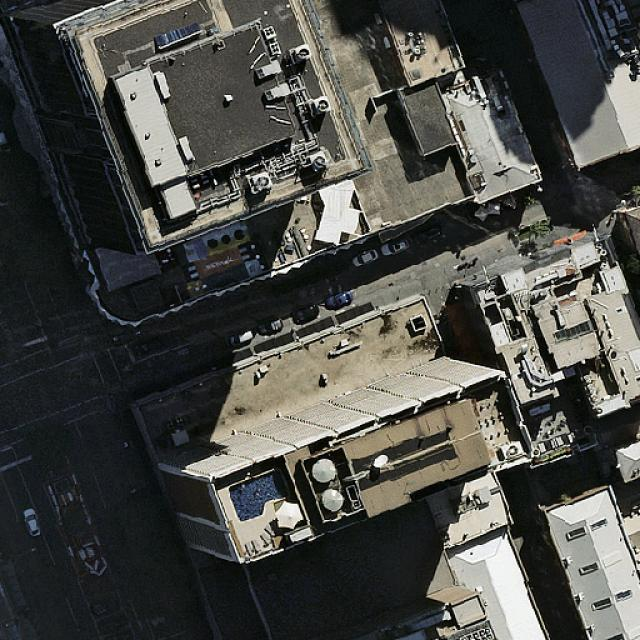Bike-Symbols: (120, 360, 134, 376)
